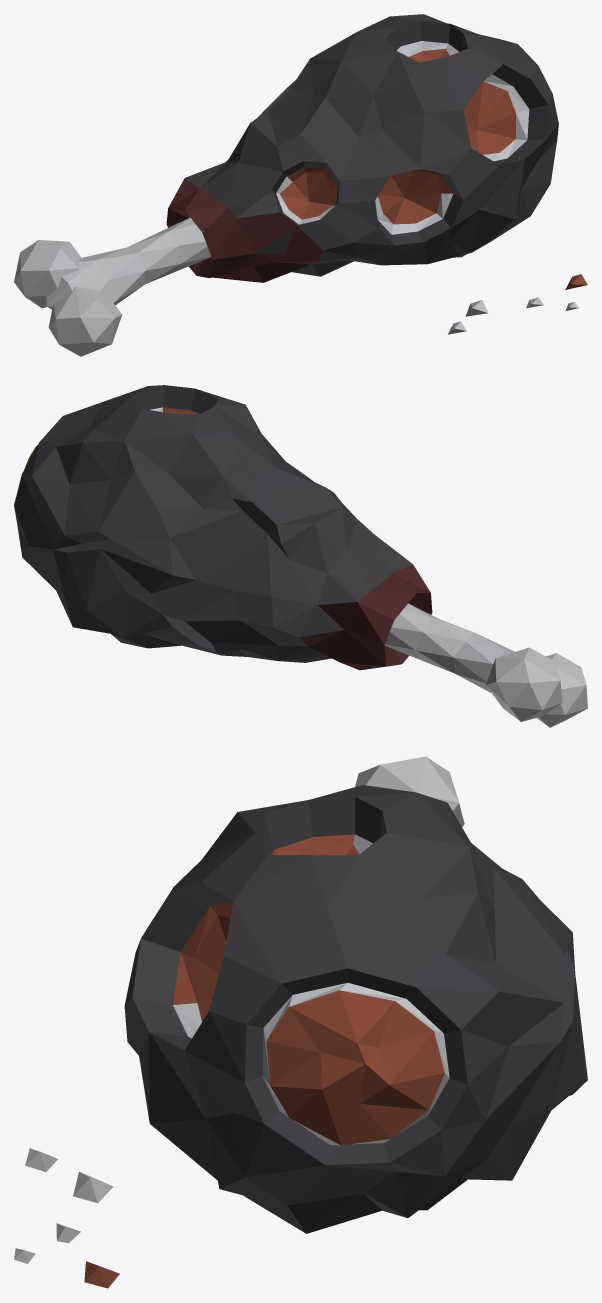
The model's file is charred-meat-haunch-be1ea2.glb.
3 views of the same model, one above another, from view 1: azimuth 30°, elevation 25°; view 2: azimuth 150°, elevation 25°; view 3: azimuth 270°, elevation 25° (orthographic). The views are drawn at different scales.
Visible parts, largest first — view 1: haunch; view 2: haunch; view 3: haunch.
Part boxes in pixels (left/top/right/bottom): haunch: left=14, top=14, right=587, bottom=356; haunch: left=14, top=385, right=587, bottom=727; haunch: left=14, top=756, right=587, bottom=1288.
Size of the model in its own units: 1.21 by 0.5095 by 0.6785.
